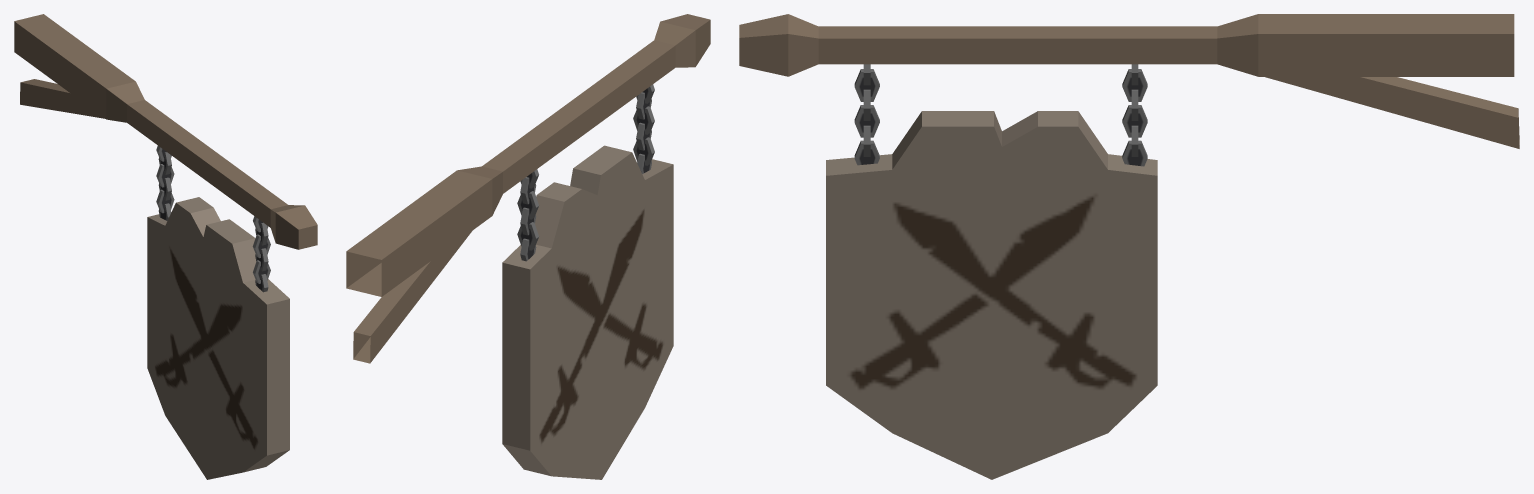
File: SM_Prop_Sign_Attachment_01.glb
The picture shows the model from 3 angles, left to right: view 1: azimuth 30°, elevation 25°; view 2: azimuth 150°, elevation 25°; view 3: azimuth 270°, elevation 25°; orthographic projection. The views are drawn at different scales.
Parts seen in each view (by area): view 1: SM_Prop_Sign_Attachment_01_part00; view 2: SM_Prop_Sign_Attachment_01_part00; view 3: SM_Prop_Sign_Attachment_01_part00.
Boxes of the visible parts, x1,y1,x2,y2 form: SM_Prop_Sign_Attachment_01_part00: [14, 14, 317, 479]; SM_Prop_Sign_Attachment_01_part00: [346, 14, 710, 479]; SM_Prop_Sign_Attachment_01_part00: [739, 14, 1519, 479].
Bounding box in the file's own units: 0.1301 × 1.36 × 2.15.
1 material, 1 textured.
